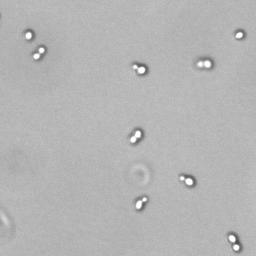budding: (224, 230, 244, 256), (126, 127, 148, 148), (175, 172, 199, 189), (132, 193, 150, 215), (193, 56, 217, 72), (130, 62, 151, 77), (31, 45, 48, 61)
individual: (21, 29, 34, 41)
